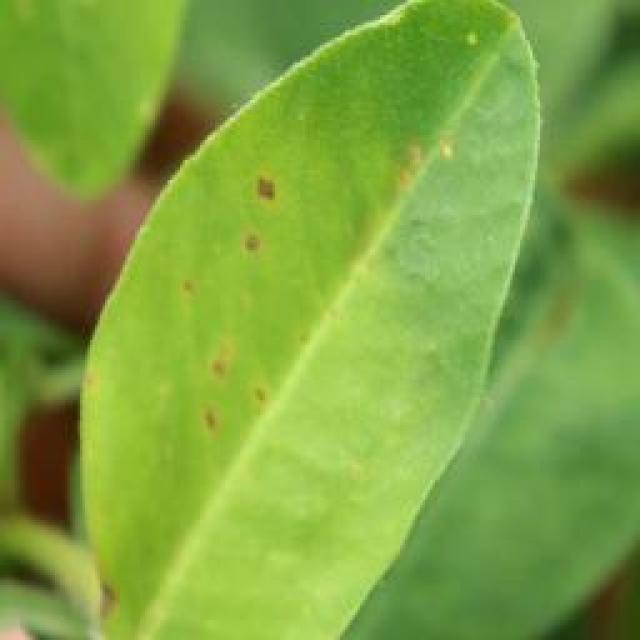Sigatoka: (349, 61, 468, 180), (178, 313, 282, 444), (217, 150, 298, 299), (72, 360, 128, 435), (85, 542, 132, 625), (173, 252, 224, 320)
